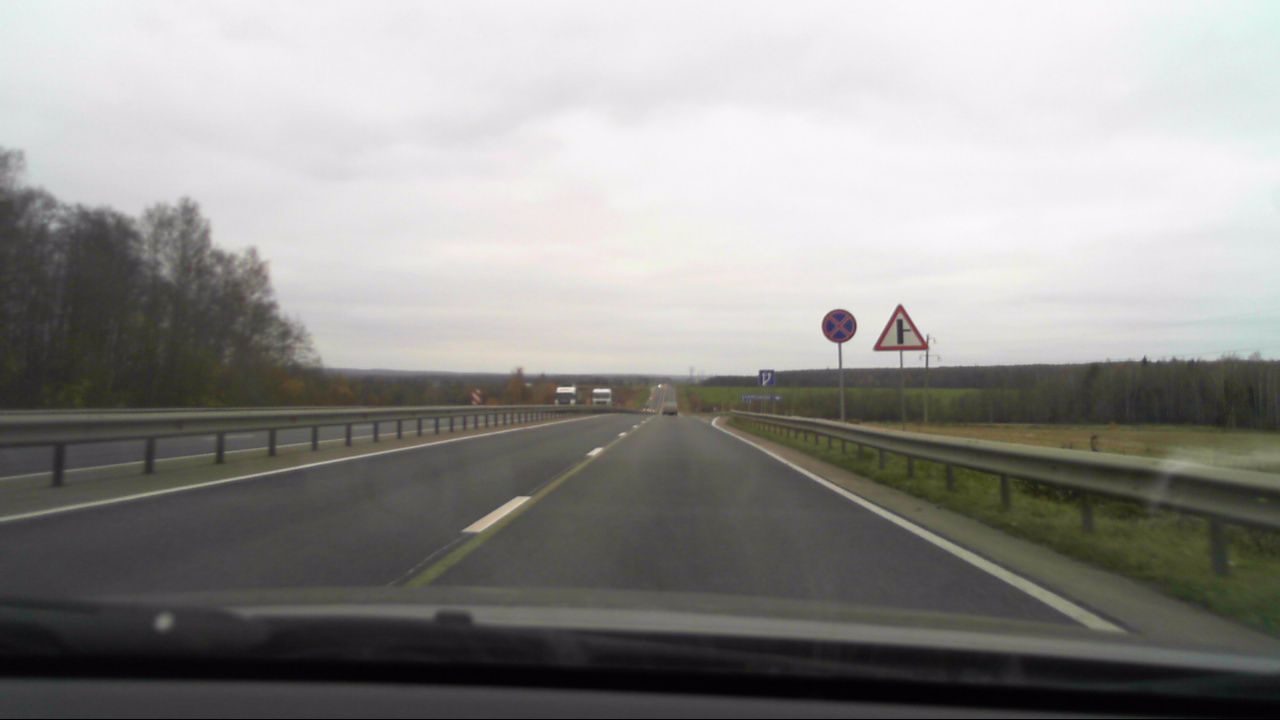No Parking: (821, 309, 857, 342)
